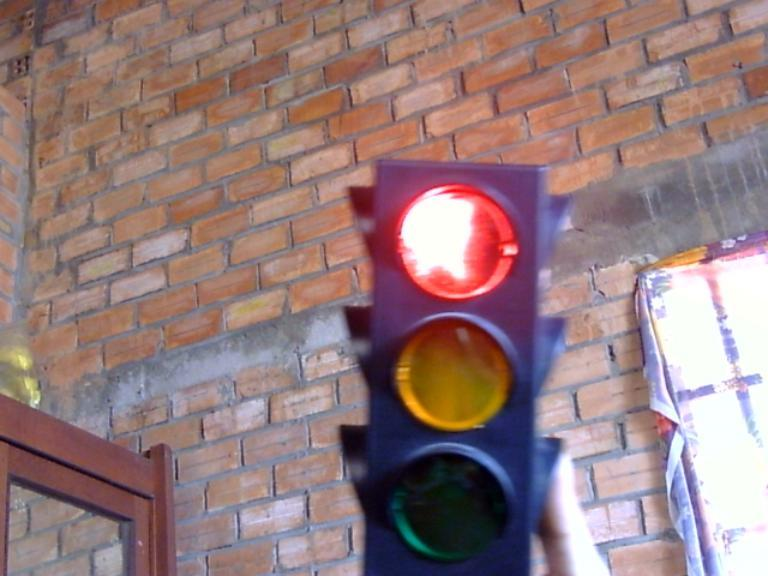red: (378, 162, 532, 308)
